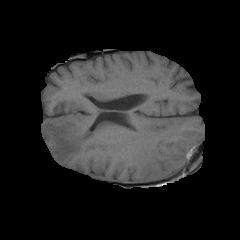glioma: (42, 118, 202, 180)
